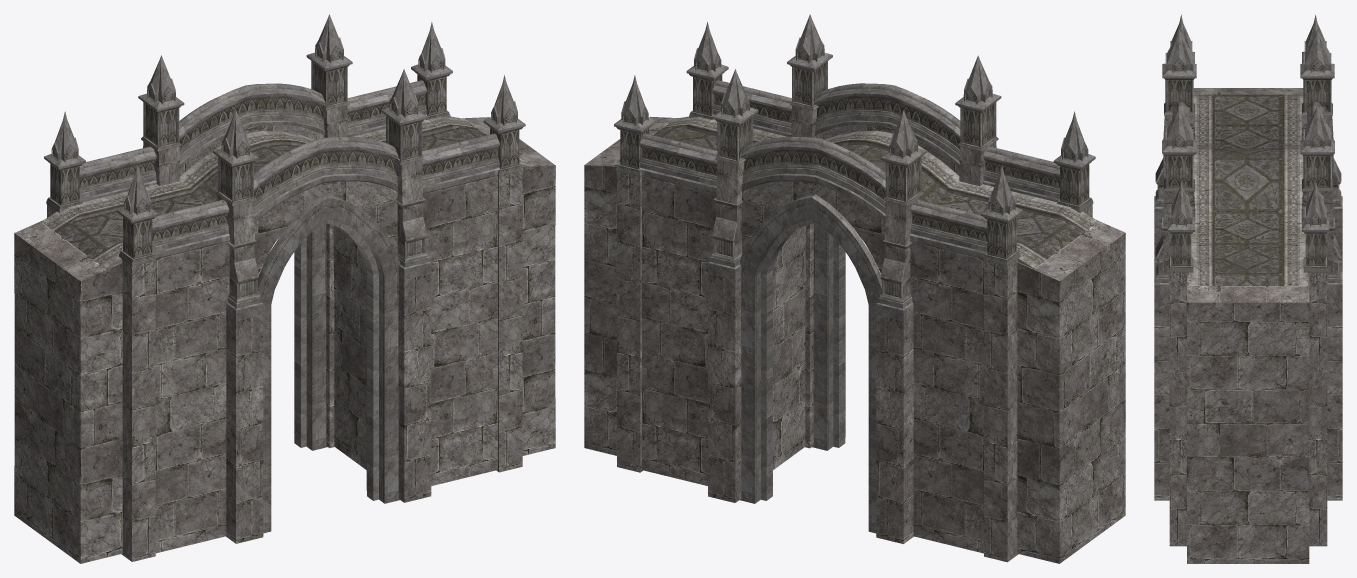
The model's file is eso_ss1_bridge1-transformed.glb.
3 views of the same model, side by side, from view 1: azimuth 30°, elevation 25°; view 2: azimuth 150°, elevation 25°; view 3: azimuth 270°, elevation 25° (orthographic). The views are drawn at different scales.
Visible parts, largest first — view 1: default; view 2: default; view 3: default.
Boxes of the visible parts, left/top/right/bottom form: default: left=14, top=14, right=555, bottom=563; default: left=584, top=14, right=1125, bottom=563; default: left=1154, top=14, right=1342, bottom=563.
Bounding box in the file's own units: 17.08 × 14.53 × 6.35.
3 materials, 3 textured.
